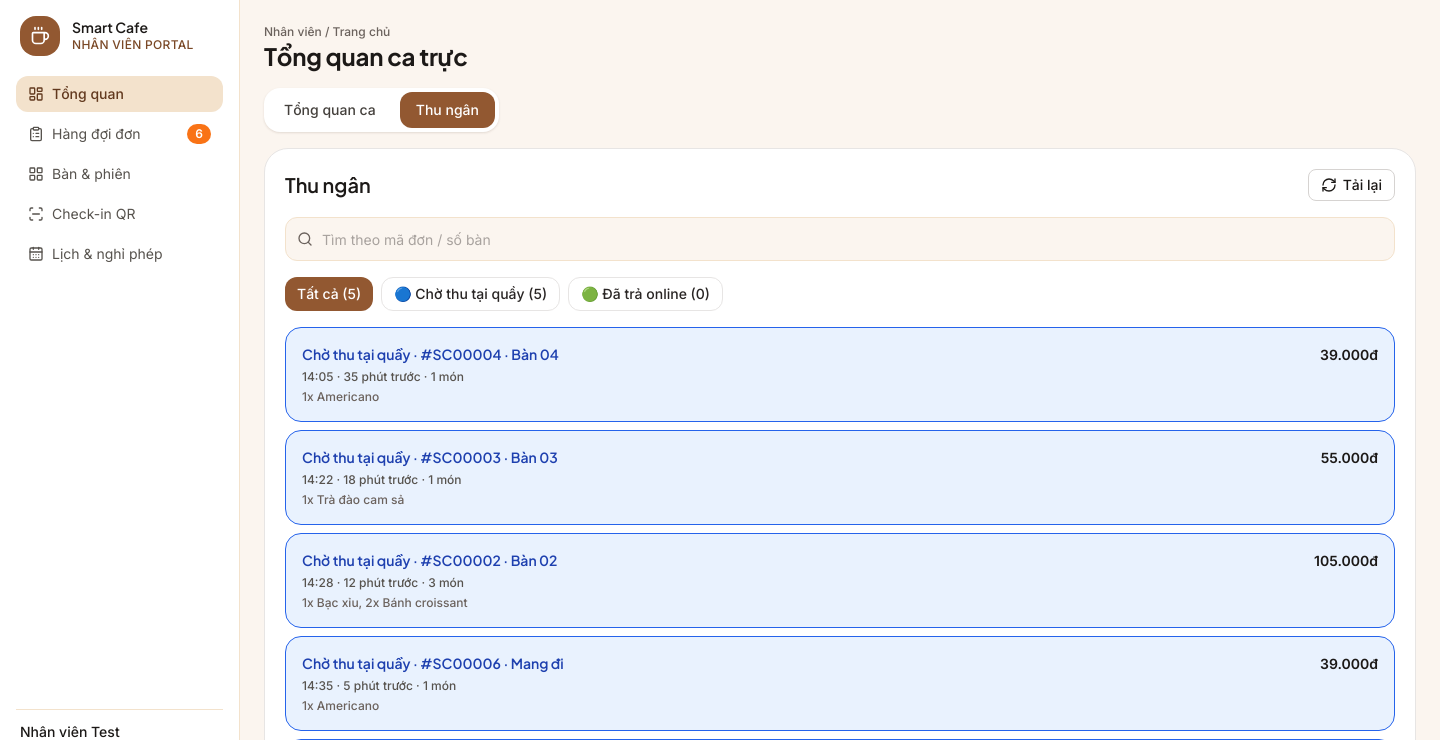
it: Tab Thu ngân › bộ lọc trạng thái kết hợp với tìm kiếm
Click the button "🟢 Đã trả online (0)" at (646, 294), box [568,277,723,311]
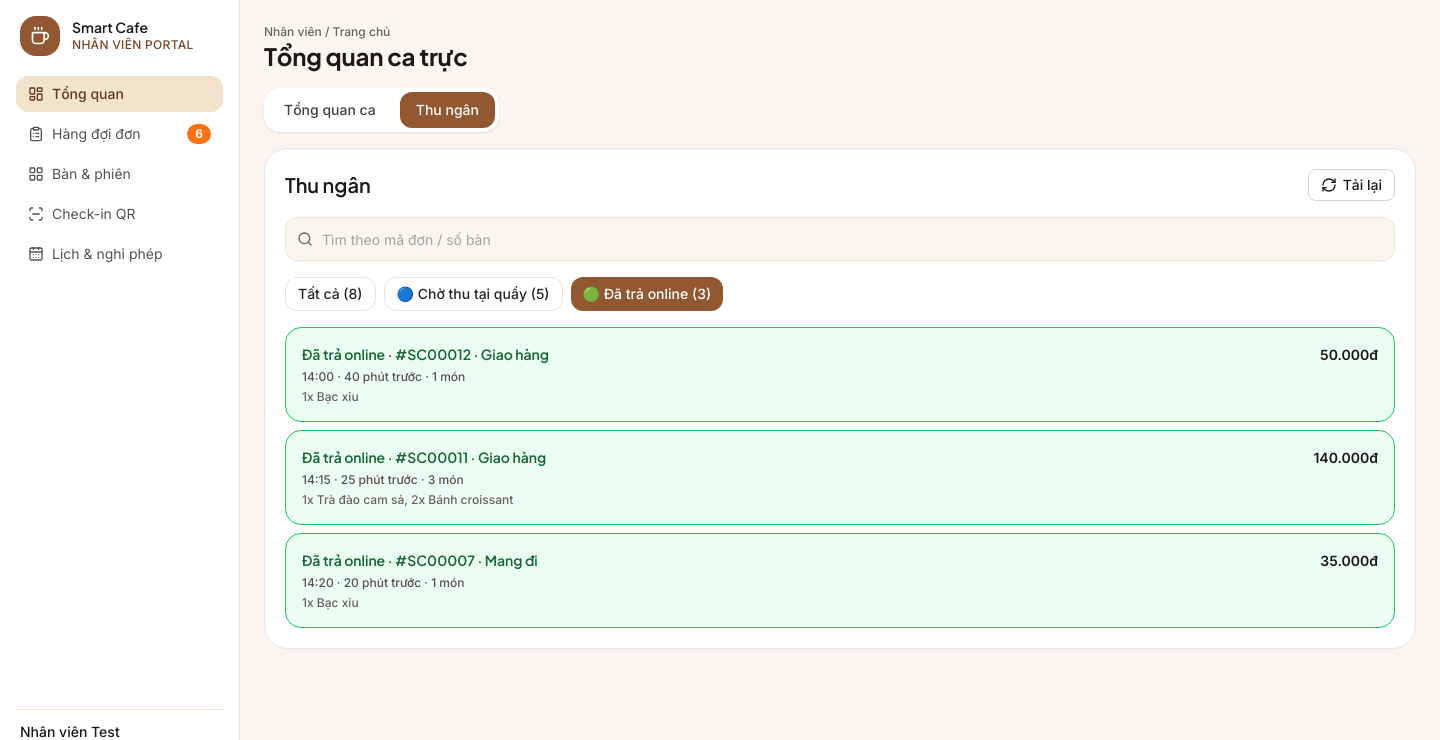
Now the number of buttons named "Mở hóa đơn" is 3, box [285,327,1395,422]; [285,430,1395,525]; [285,533,1395,628]
